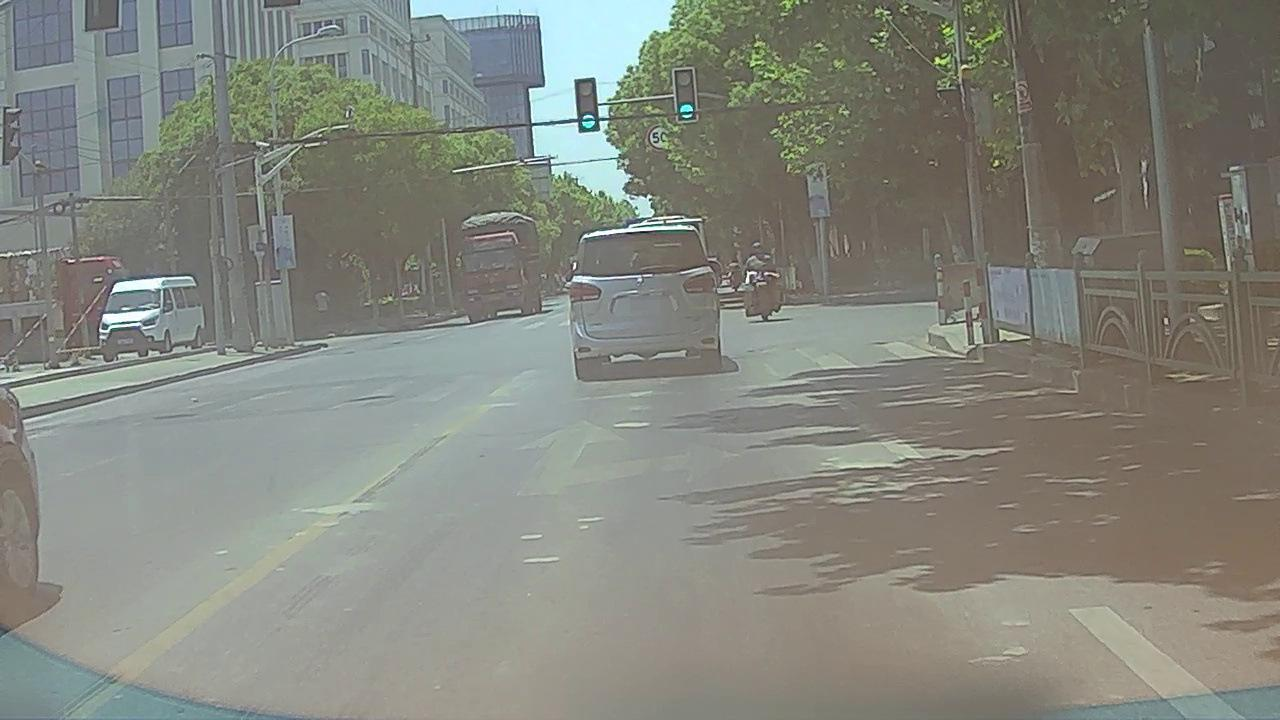traffic_light: (574, 79, 599, 131), (674, 70, 697, 120)
